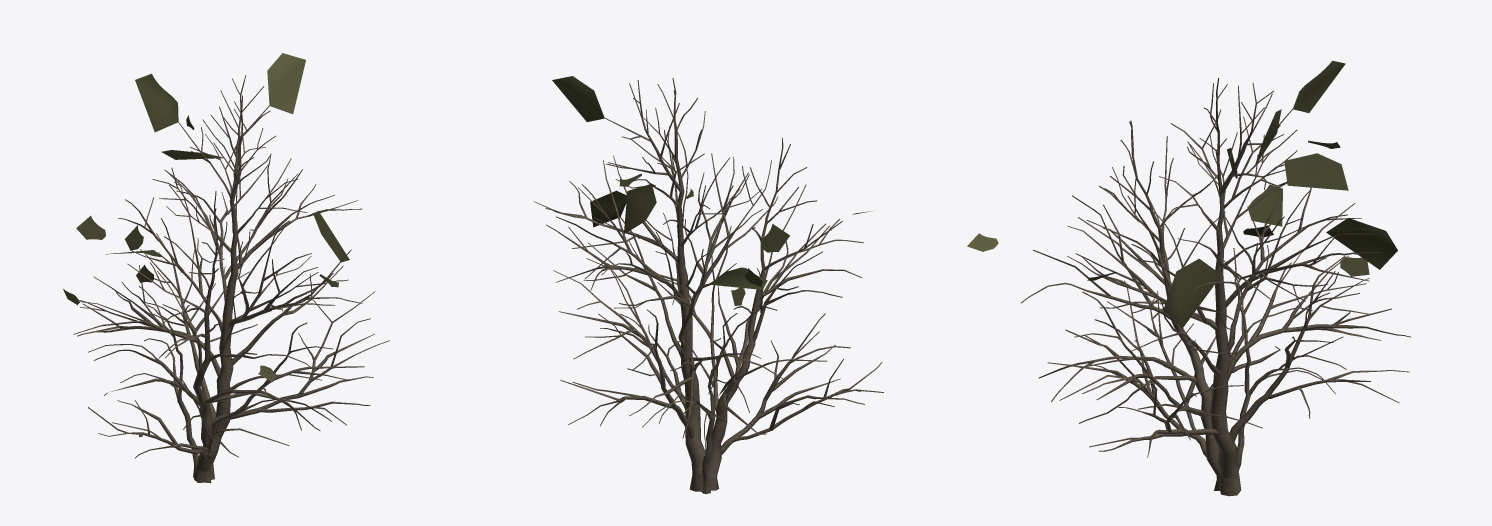
The model's file is SM_BlackAlder_Field_02_PP_LOD5.gltf.
3 views of the same model, side by side, from view 1: azimuth 30°, elevation 25°; view 2: azimuth 150°, elevation 25°; view 3: azimuth 270°, elevation 25° (orthographic). The views are drawn at different scales.
Parts seen in each view (by area): view 1: SM_BlackAlder_Field_02_PP; view 2: SM_BlackAlder_Field_02_PP; view 3: SM_BlackAlder_Field_02_PP.
Part boxes in pixels (box(x1,y1,x2,y2)): SM_BlackAlder_Field_02_PP: box(63, 53, 389, 483); SM_BlackAlder_Field_02_PP: box(533, 76, 883, 494); SM_BlackAlder_Field_02_PP: box(967, 60, 1411, 496).
Size of the model in its own units: 16.54 by 17.4 by 16.29.
Materials: 2 (2 with a texture image).
